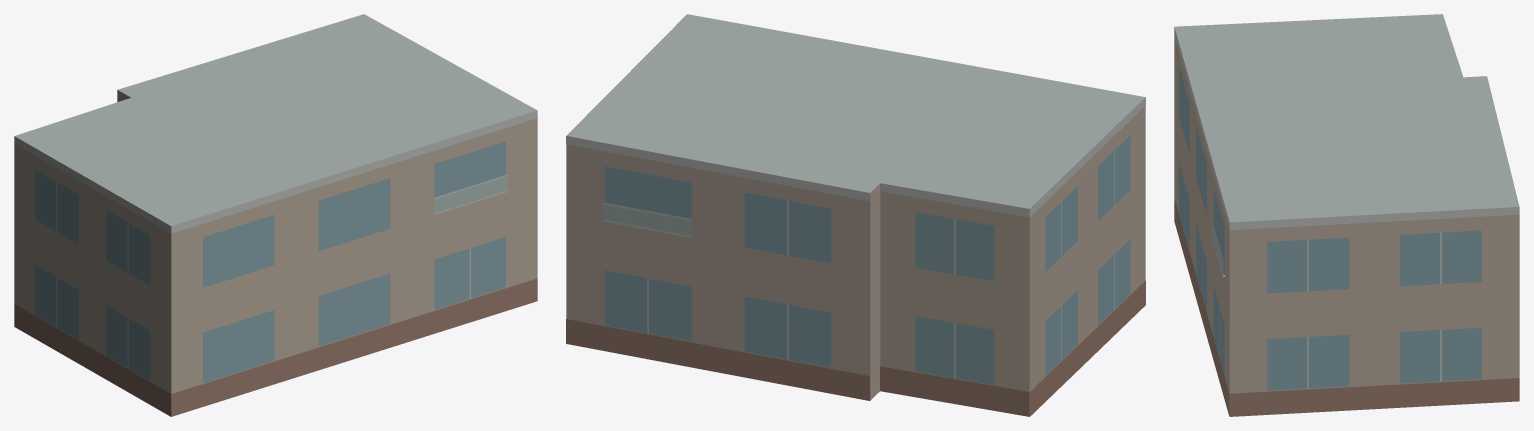
File: survey-upis-32764416.glb
3 views of the same model, side by side, from view 1: azimuth 30°, elevation 25°; view 2: azimuth 150°, elevation 25°; view 3: azimuth 270°, elevation 25° (orthographic). The views are drawn at different scales.
Visible parts, largest first — view 1: survey-upis-32764416.tmp; view 2: survey-upis-32764416.tmp; view 3: survey-upis-32764416.tmp.
Boxes of the visible parts, <box> form: survey-upis-32764416.tmp: <box>14,14,537,416</box>; survey-upis-32764416.tmp: <box>566,14,1145,416</box>; survey-upis-32764416.tmp: <box>1174,14,1519,416</box>.
Bounding box in the file's own units: 14.03 × 6.1 × 9.82.
